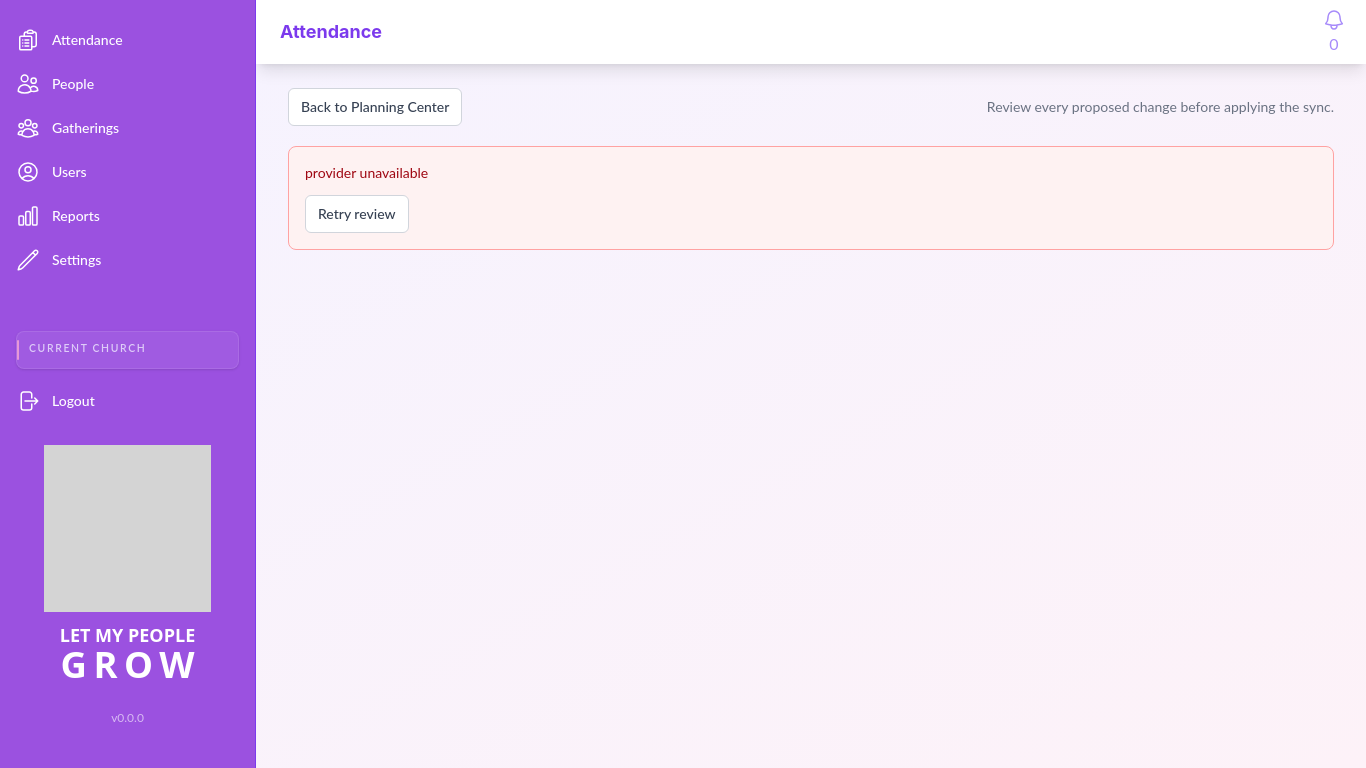
Test case: PeopleSyncBatchReviewPage › keeps retry and back actions available after the initial plan load fails
The image size is (1366, 768).
Expected: the message shows "provider unavailable", [305, 164, 428, 181]
Expected: the button "Back to Planning Center" is shown, [288, 88, 462, 126]
Click the button "Retry review". click: x=357, y=214
box: [305, 195, 409, 233]
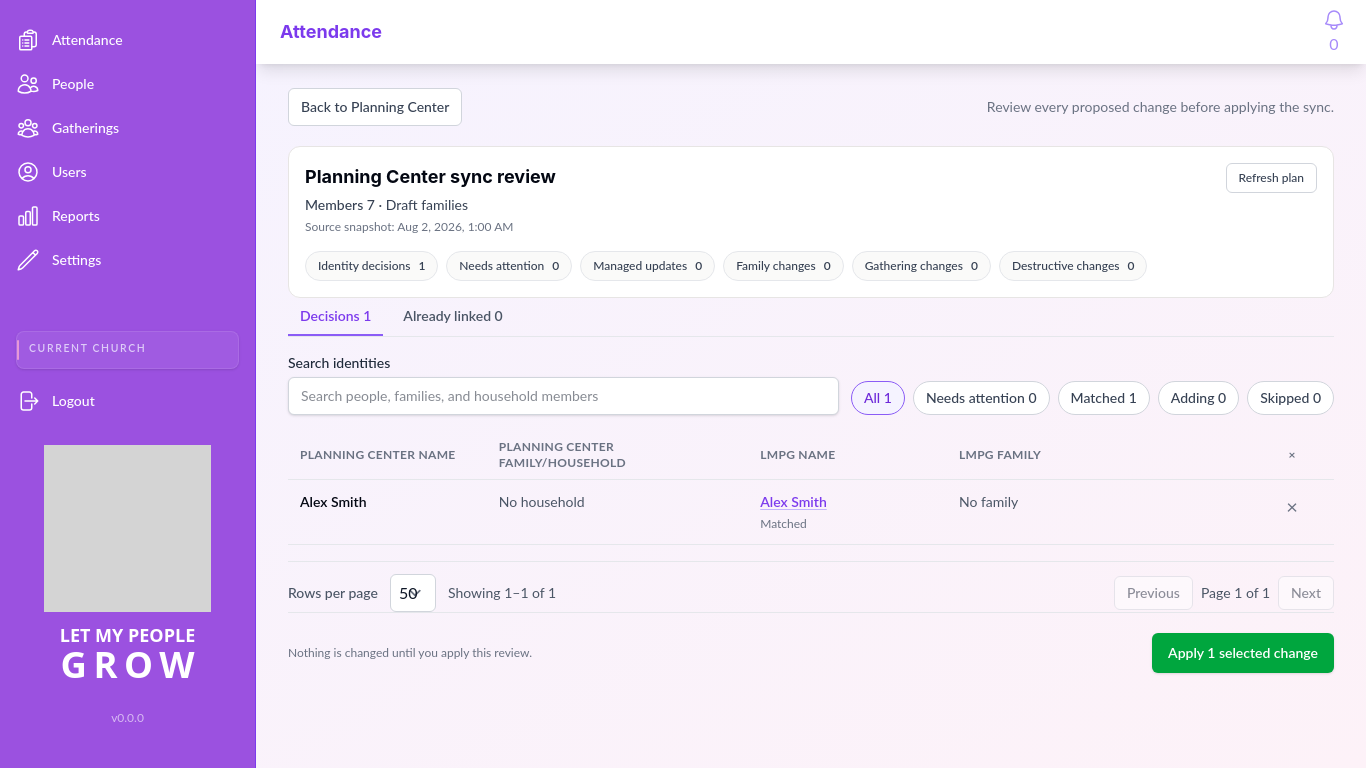
Result: the heading "Planning Center sync review" is shown at [305, 163, 556, 191]
